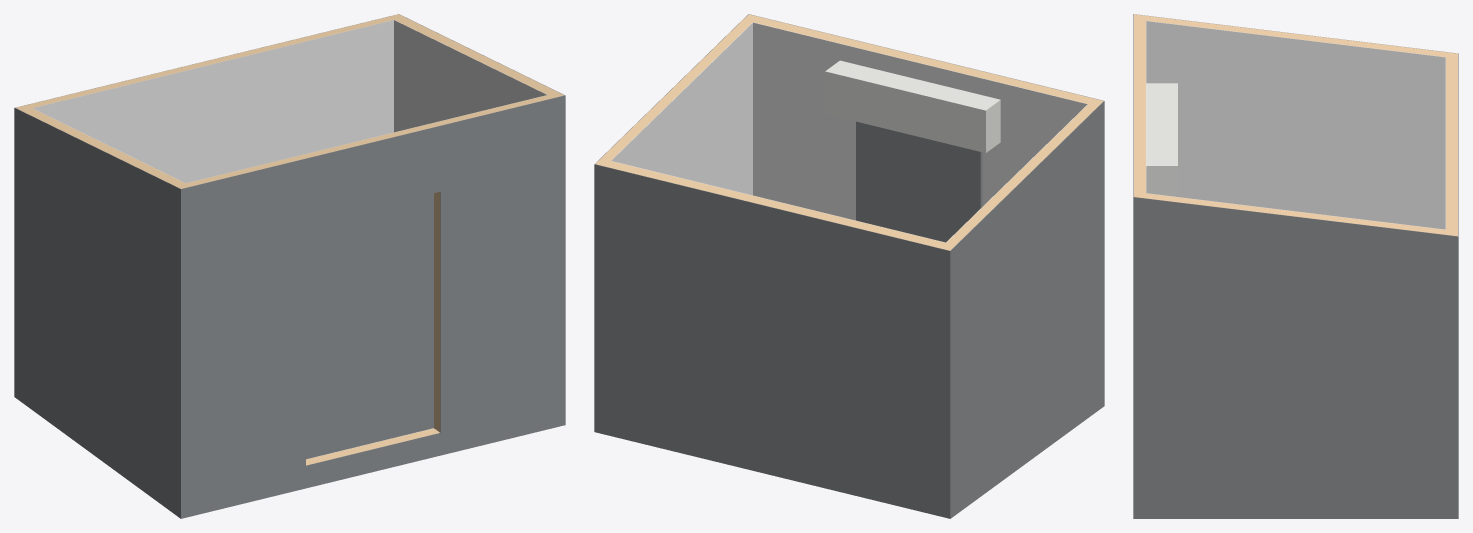
Rendered from simonas.gedvilas@greengenius.fbx.
3 views of the same model, side by side, from view 1: azimuth 30°, elevation 25°; view 2: azimuth 150°, elevation 25°; view 3: azimuth 270°, elevation 25° (orthographic). The views are drawn at different scales.
Visible parts, largest first — view 1: IfcWall/Part:2319977, IfcWall/Part:2627371, IfcWall/Part:2397154, IfcDoor/Doors - Overhead Rolling Doors - v2011:1400x2400:262, IfcWall/Part:2397151, IfcWall/Part:2319978, IfcWall/Part:2397156, IfcWall/Part:2627372, IfcWall/Part:2397153; view 2: IfcWall/Part:2397155, IfcWall/Part:2627371, IfcWall/Part:2319976, IfcDoor/Doors - Overhead Rolling Doors - v2011:1400x2400:262, IfcWall/Part:2397151, IfcWall/Part:2397156, IfcWall/Part:2319978, IfcWall/Part:2627372, IfcWall/Part:2397153; view 3: IfcWall/Part:2397152, IfcWall/Part:2627370, IfcDoor/Doors - Overhead Rolling Doors - v2011:1400x2400:262, IfcWall/Part:2397156, IfcWall/Part:2319978, IfcWall/Part:2627372, IfcWall/Part:2397153, IfcWall/Part:2397155.
Part boxes in pixels (x1,y1,x2,y2): IfcWall/Part:2319977: (181, 95, 564, 518); IfcWall/Part:2627371: (14, 107, 181, 518); IfcWall/Part:2397154: (32, 20, 393, 182); IfcDoor/Doors - Overhead Rolling Doors - v2011:1400x2400:262: (306, 193, 433, 459); IfcWall/Part:2397151: (394, 20, 547, 132); IfcWall/Part:2319978: (186, 95, 553, 465); IfcWall/Part:2397156: (26, 14, 404, 107); IfcWall/Part:2627372: (15, 105, 191, 188); IfcWall/Part:2397153: (394, 17, 564, 97); IfcWall/Part:2397155: (594, 164, 949, 518); IfcWall/Part:2627371: (950, 101, 1104, 518); IfcWall/Part:2319976: (753, 22, 1087, 220); IfcDoor/Doors - Overhead Rolling Doors - v2011:1400x2400:262: (825, 60, 1000, 242); IfcWall/Part:2397151: (611, 22, 752, 195); IfcWall/Part:2397156: (595, 158, 945, 248); IfcWall/Part:2319978: (753, 17, 1093, 103); IfcWall/Part:2627372: (940, 98, 1103, 250); IfcWall/Part:2397153: (601, 14, 758, 160); IfcWall/Part:2397152: (1133, 197, 1457, 518); IfcWall/Part:2627370: (1146, 21, 1445, 229); IfcDoor/Doors - Overhead Rolling Doors - v2011:1400x2400:262: (1146, 83, 1177, 196); IfcWall/Part:2397156: (1446, 57, 1457, 236); IfcWall/Part:2319978: (1134, 19, 1145, 193); IfcWall/Part:2627372: (1134, 14, 1457, 58); IfcWall/Part:2397153: (1134, 192, 1445, 234); IfcWall/Part:2397155: (1458, 53, 1458, 518).
Size of the model in its own units: 400 by 328 by 300.
